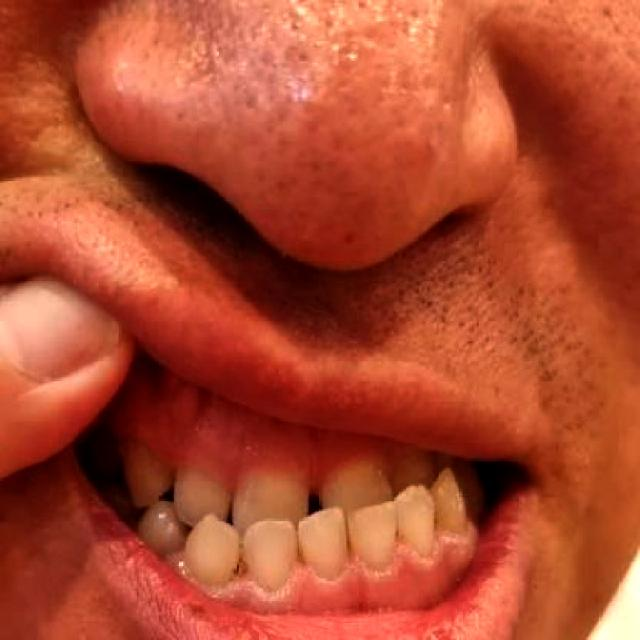Plaque: (226, 557, 251, 580)
